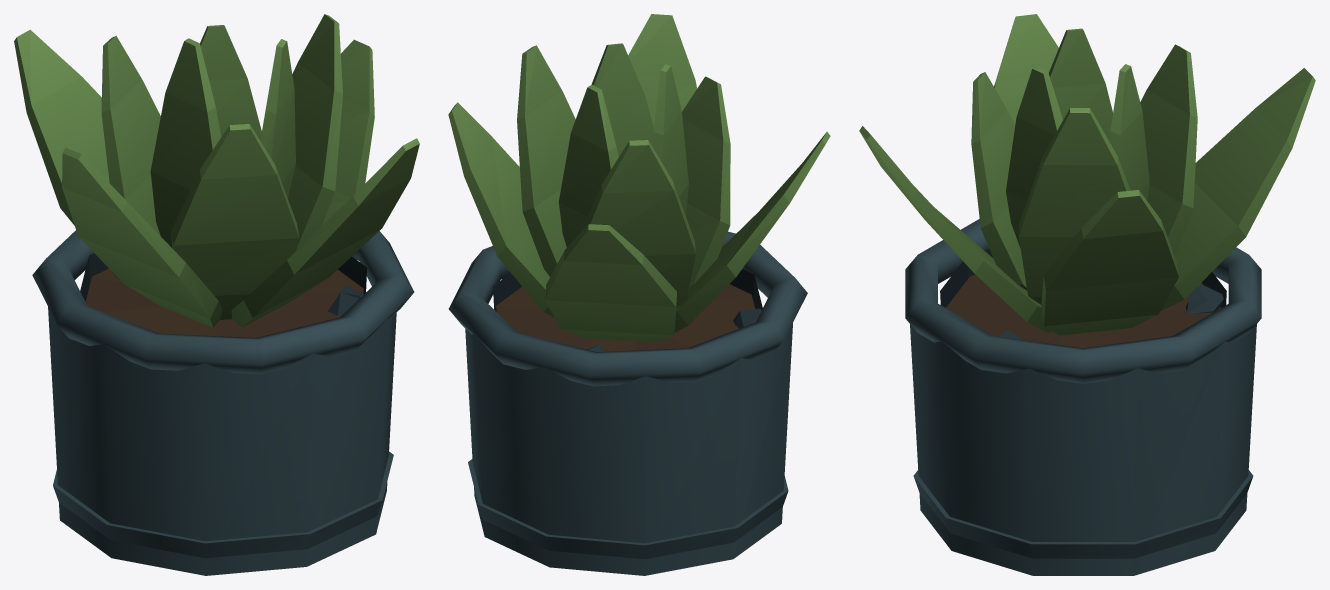
The model's file is desk_plant.glb.
3 renders of one model, left to right at view 1: azimuth 30°, elevation 25°; view 2: azimuth 150°, elevation 25°; view 3: azimuth 270°, elevation 25°, orthographic. The views are drawn at different scales.
Parts seen in each view (by area): view 1: desk_plant; view 2: desk_plant; view 3: desk_plant.
Part boxes in pixels (x1,y1,x2,y2): desk_plant: (14,14,419,575); desk_plant: (448,14,830,575); desk_plant: (859,14,1315,575).
Bounding box in the file's own units: 0.1245 × 0.1607 × 0.1433.
